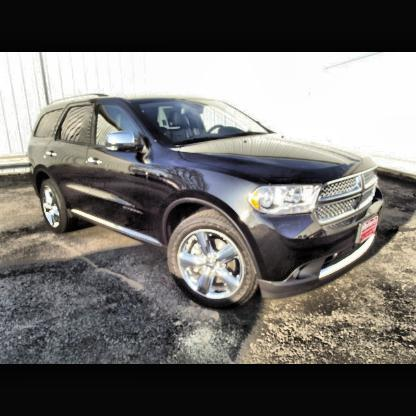Dodge Durango SUV 2012: (28, 94, 386, 311)
